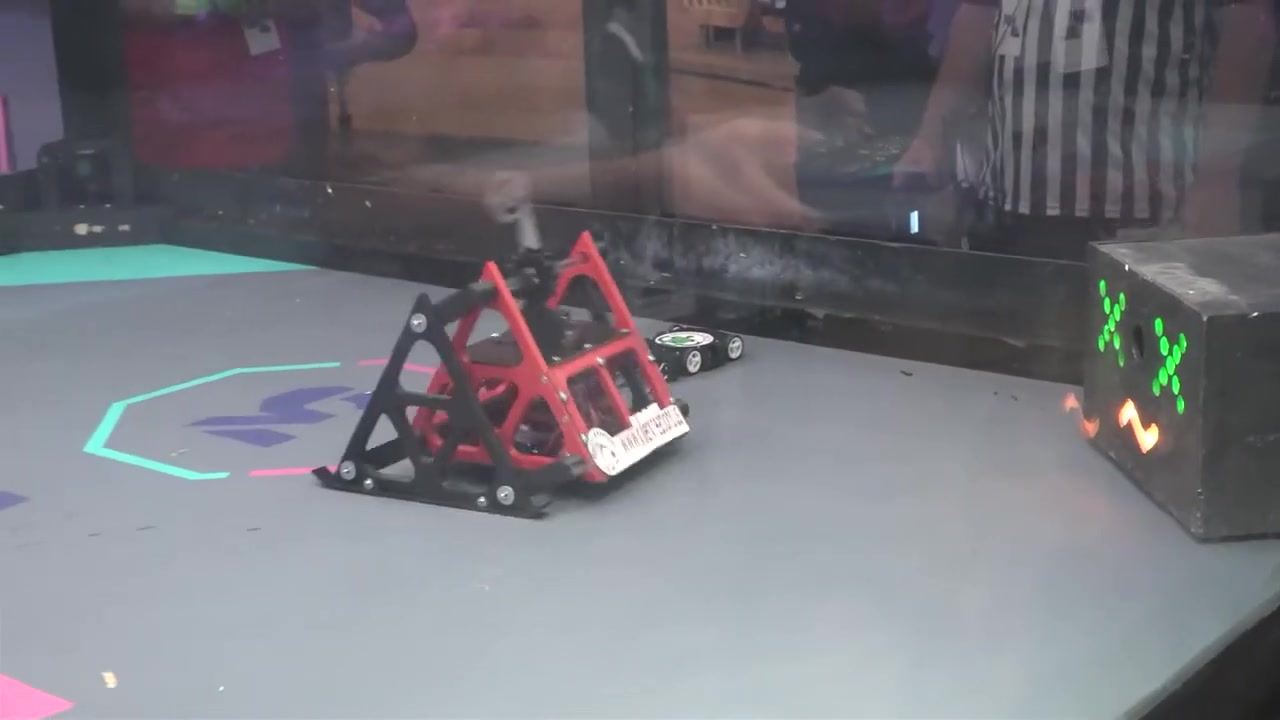combatbot: (310, 228, 699, 518)
housebot: (1080, 223, 1280, 549)
minibot: (633, 327, 748, 381)
